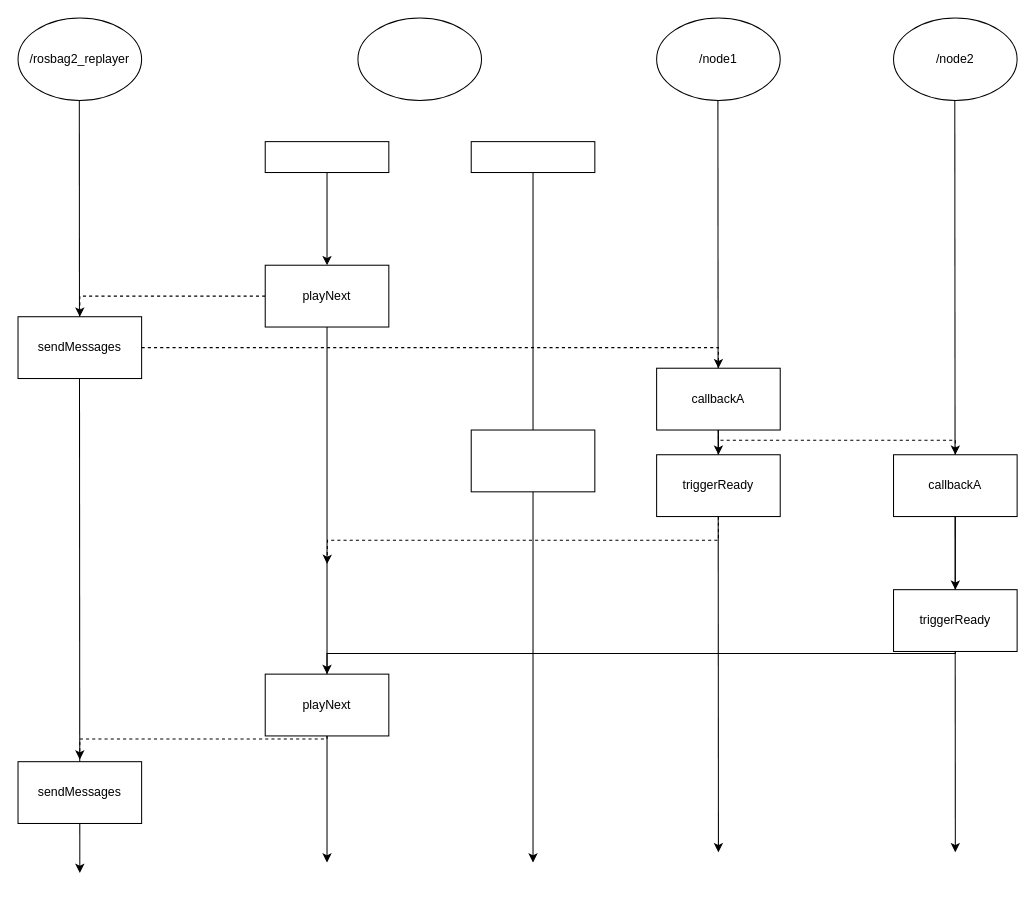
Image size: 1035x899. Some labels were removed from this diagram. The centre of each missing label's shape, as x and y in pixels:
/remote: (x=419, y=58)
replayerRunning?: (x=532, y=460)
Timer 1: (x=326, y=157)
Timer 2: (x=532, y=157)
